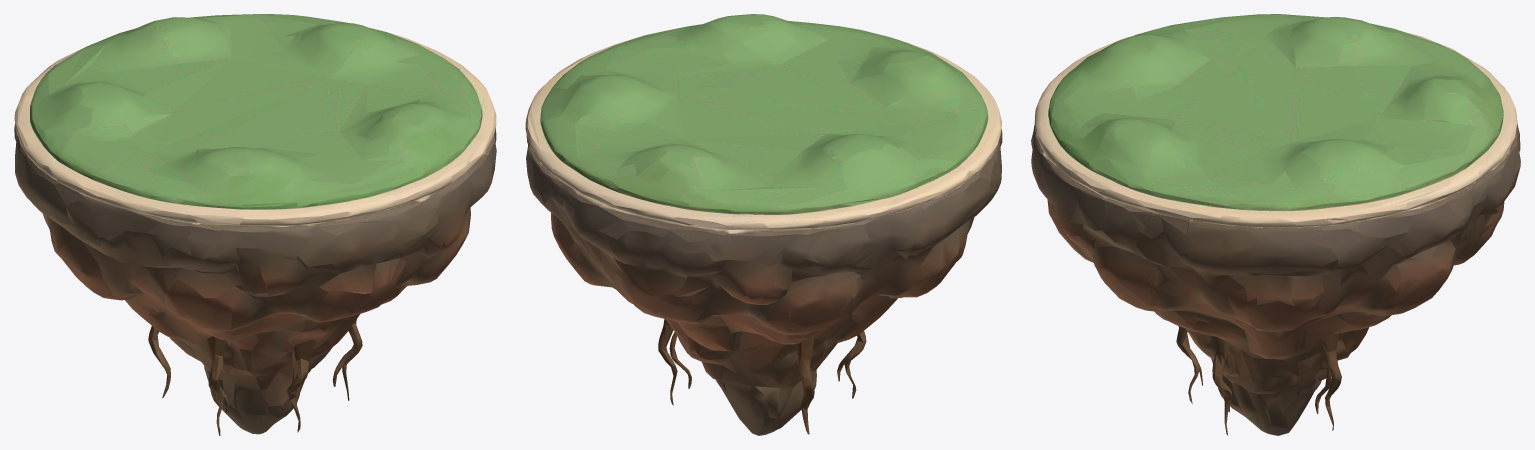
The model's file is isle.glb.
The picture shows the model from 3 angles, left to right: view 1: azimuth 30°, elevation 25°; view 2: azimuth 150°, elevation 25°; view 3: azimuth 270°, elevation 25°; orthographic projection.
Parts seen in each view (by area): view 1: Mesh_0; view 2: Mesh_0; view 3: Mesh_0.
Part boxes in pixels (<box>): Mesh_0: <box>14,14,496,435</box>; Mesh_0: <box>525,14,1002,435</box>; Mesh_0: <box>1031,14,1520,435</box>.
Size of the model in its own units: 1.9 by 1.48 by 1.89.
Materials: 1 (1 with a texture image).
